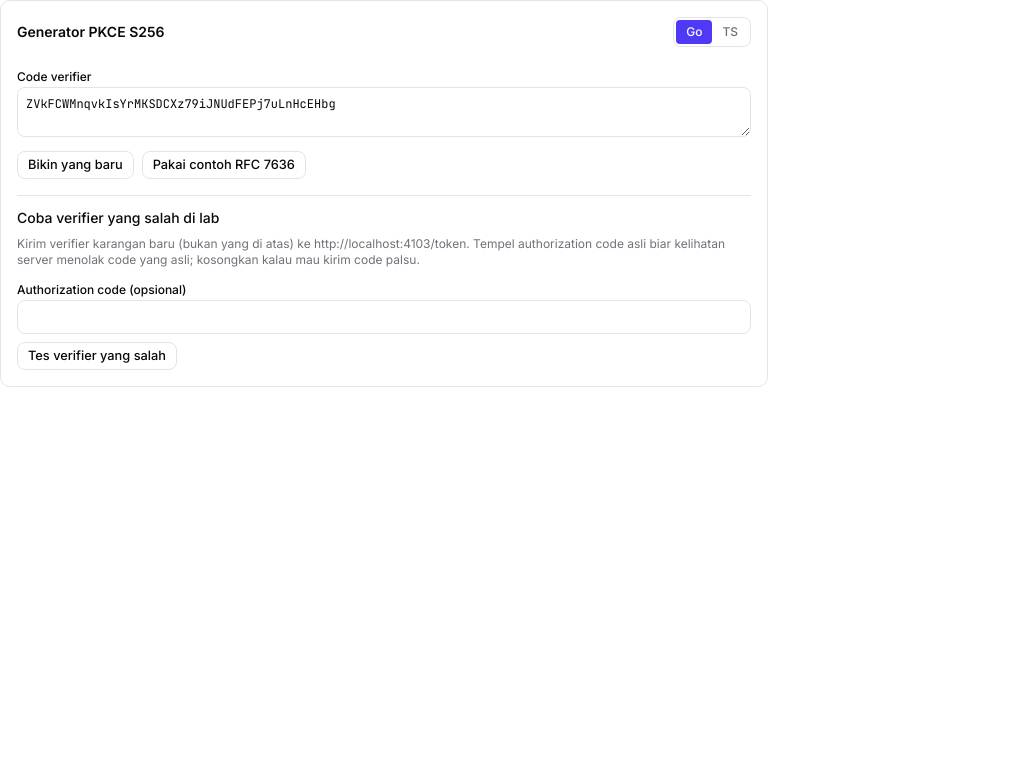
Test: PkceGenerator › posts a WRONG verifier to the lab /token and shows invalid_grant
Replace the text in the text box labelled "Code verifier" with "dBjftJeZ4CVP-mB92K27uhbUJU1p1r_wW1gFWFOEjXk". click: [384, 112]
box: [17,87,751,137]
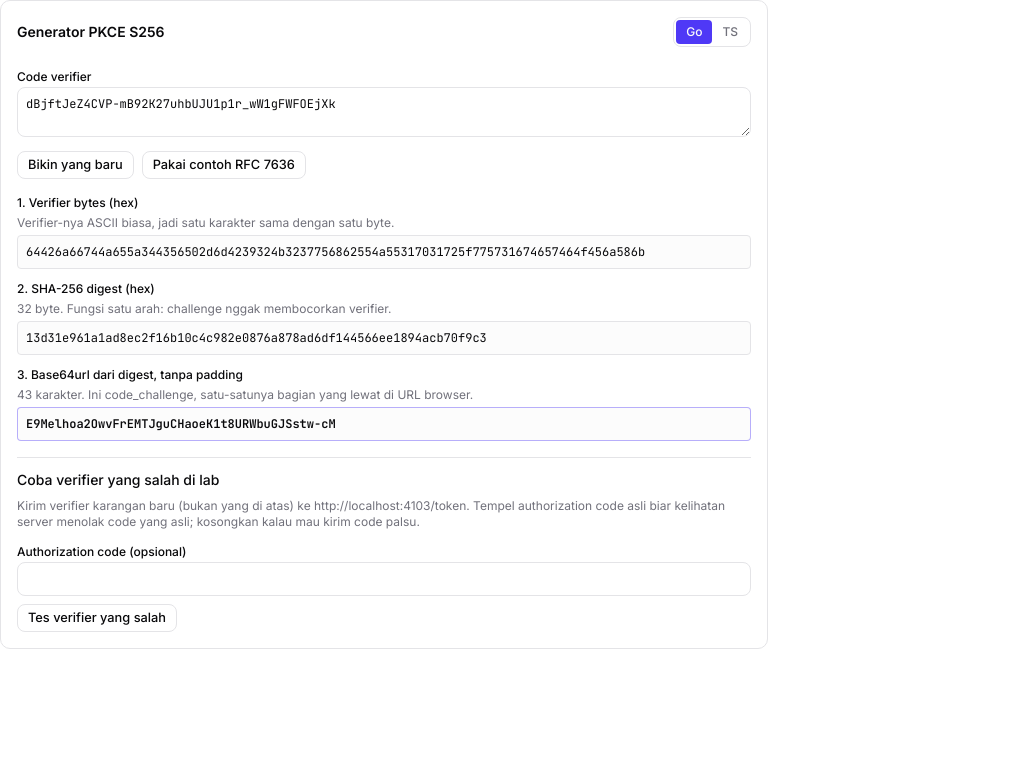
Click the button "Tes verifier yang salah". click: [97, 618]
box: [17,604,177,632]
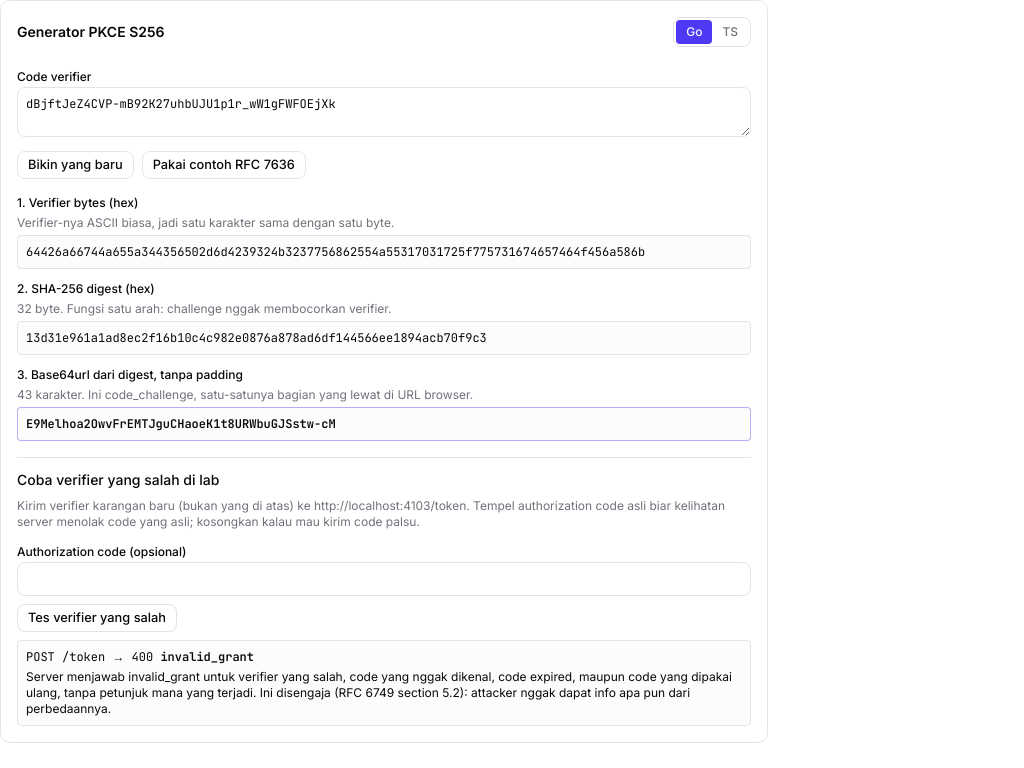
Expected: the text "invalid_grant" is shown, [160,649,254,665]
